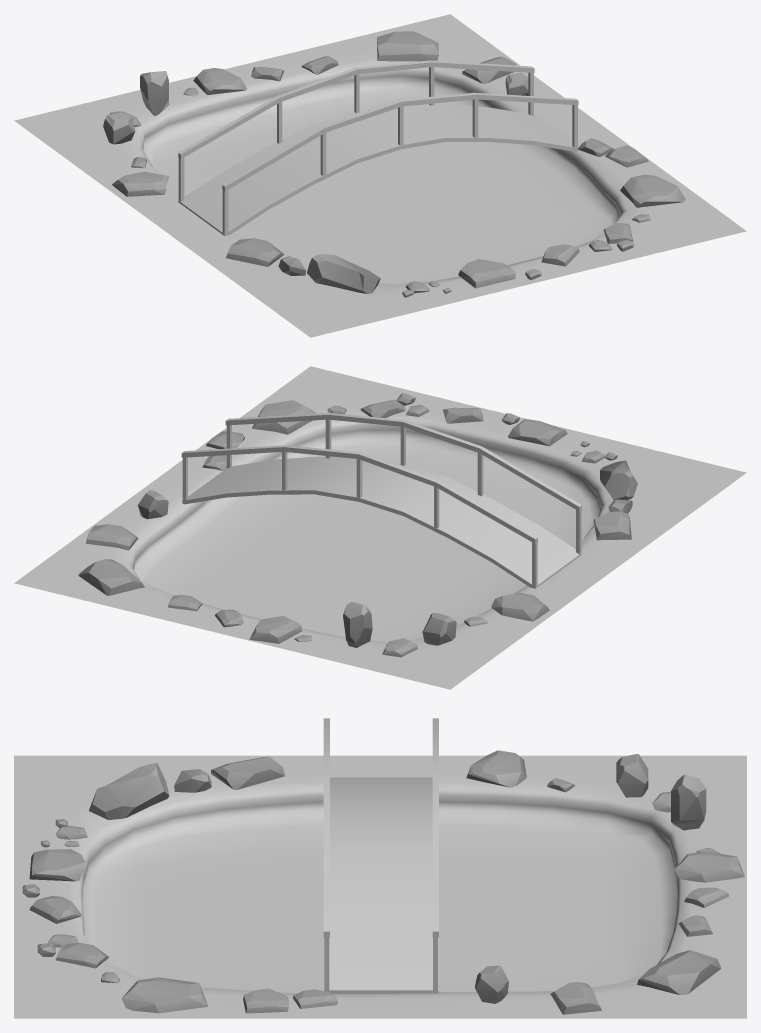
The model's file is SM_exterior_estanque.fbx.
3 views of the same model, one above another, from view 1: azimuth 30°, elevation 25°; view 2: azimuth 150°, elevation 25°; view 3: azimuth 270°, elevation 25° (orthographic). The views are drawn at different scales.
Visible parts, largest first — view 1: SM_exterior_estanque; view 2: SM_exterior_estanque; view 3: SM_exterior_estanque.
Boxes of the visible parts, x1,y1,x2,y2 form: SM_exterior_estanque: [14, 14, 746, 337]; SM_exterior_estanque: [14, 366, 746, 689]; SM_exterior_estanque: [14, 718, 746, 1018].
Size of the model in its own units: 576 by 146 by 678.
